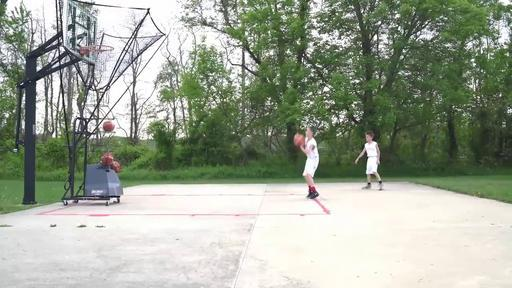ball: (103, 120, 115, 132), (293, 134, 305, 146), (100, 153, 113, 164), (113, 160, 121, 171)
human: (354, 130, 386, 191), (300, 127, 319, 200)
rim: (80, 44, 114, 71)
